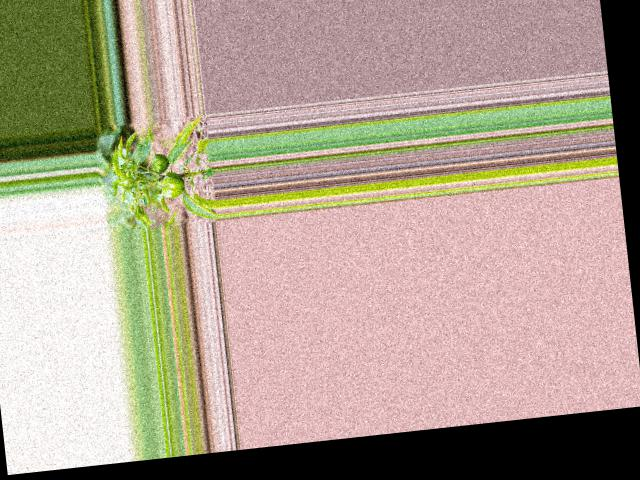bell_pepper: (149, 151, 171, 174)
